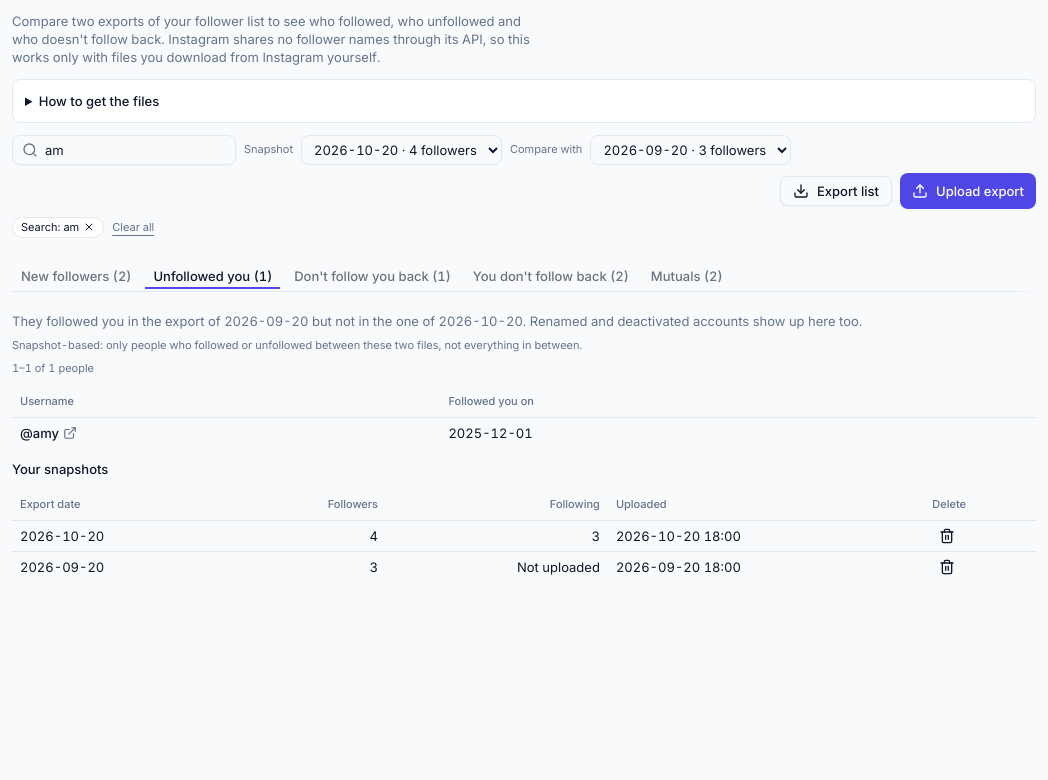
Test case: FollowersTab › export downloads the current list through the safe xlsx route; an error key is shown translated
The width and height of the screenshot is (1048, 780).
Click the button "Export list" at (836, 191), box [780,176,892,206]
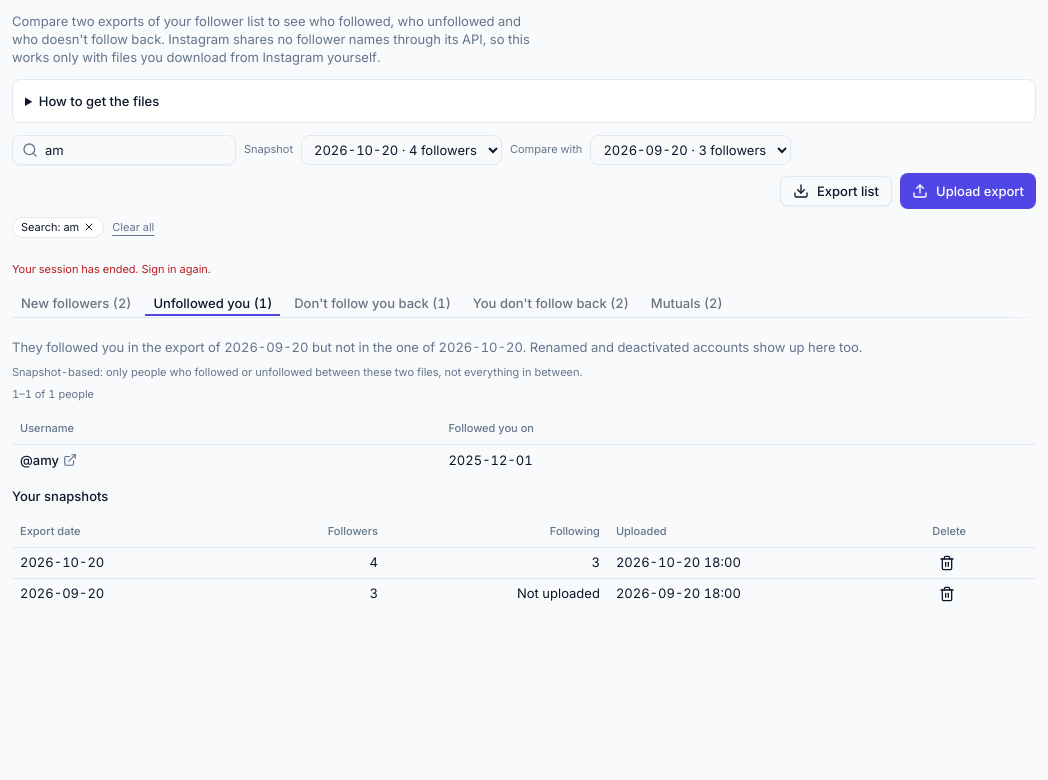
Check: the message reads "Your session has ended. Sign in again.", box [12,262,211,276]
